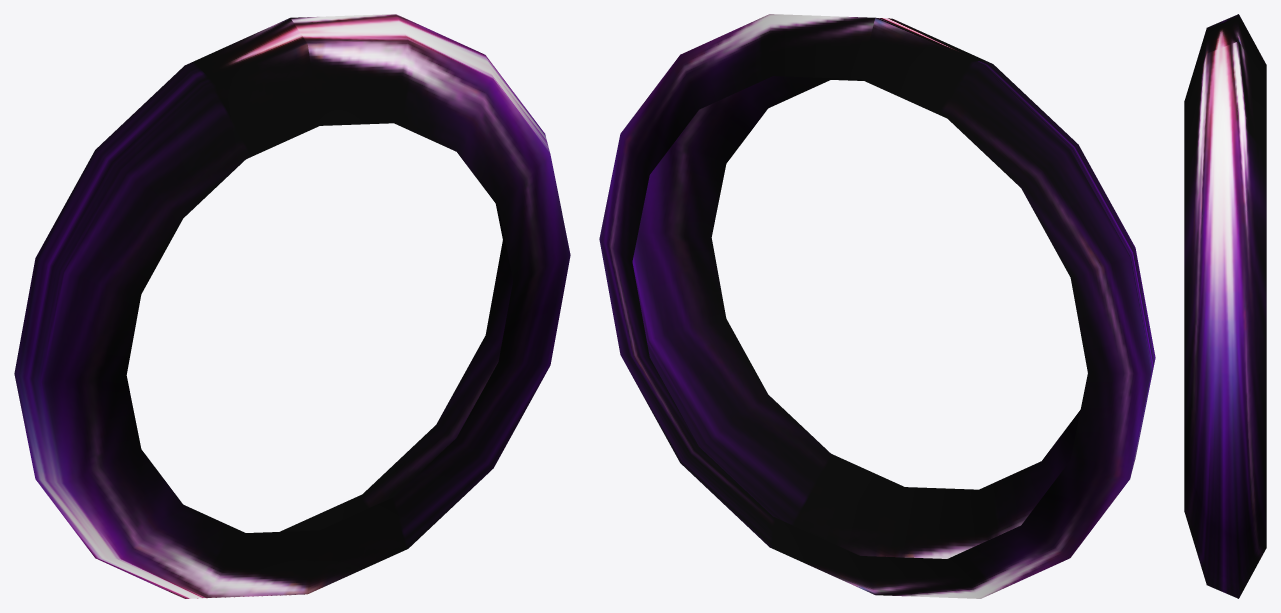
File: huan_001.FBX
3 renders of one model, left to right at view 1: azimuth 30°, elevation 25°; view 2: azimuth 150°, elevation 25°; view 3: azimuth 270°, elevation 25°, orthographic. The views are drawn at different scales.
Visible parts, largest first — view 1: huan_001; view 2: huan_001; view 3: huan_001.
Part boxes in pixels (box(x1,y1,x2,y2)): huan_001: box(14, 14, 570, 598); huan_001: box(599, 14, 1155, 598); huan_001: box(1184, 14, 1266, 598).
Size of the model in its own units: 46.09 by 46.09 by 6.48.
